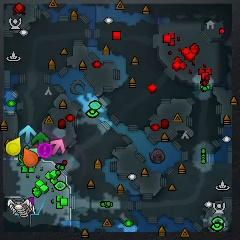Other: (39, 142, 53, 157)
p2: (29, 147, 38, 155)
p3: (27, 197, 34, 205)
p4: (6, 137, 21, 156)
p5: (23, 147, 38, 168)
x1: (49, 139, 66, 156)
x3: (18, 125, 36, 143)
x4: (33, 132, 50, 145)
